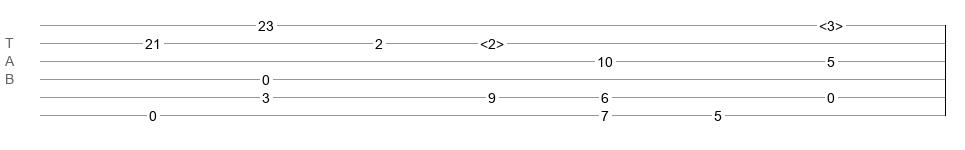0: (149, 108, 157, 118), (262, 72, 270, 82), (827, 90, 835, 100)
10: (597, 54, 613, 64)
2: (375, 36, 383, 46)
21: (145, 36, 161, 46)
23: (258, 18, 274, 28)
3: (262, 90, 270, 100)
5: (714, 108, 722, 118), (827, 54, 835, 64)
6: (601, 90, 609, 100)
7: (601, 108, 609, 118)
9: (488, 90, 496, 100)
harmonic: (480, 36, 504, 46), (819, 18, 843, 28)
